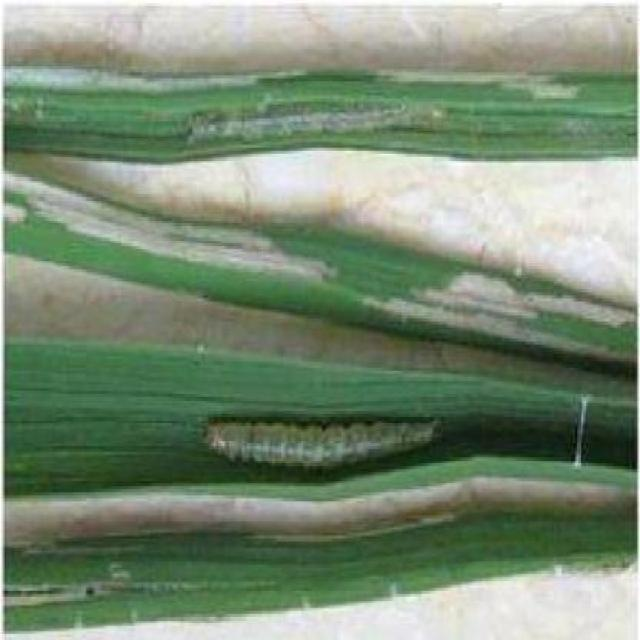leaf-folder: (185, 374, 450, 492), (182, 83, 440, 163)
